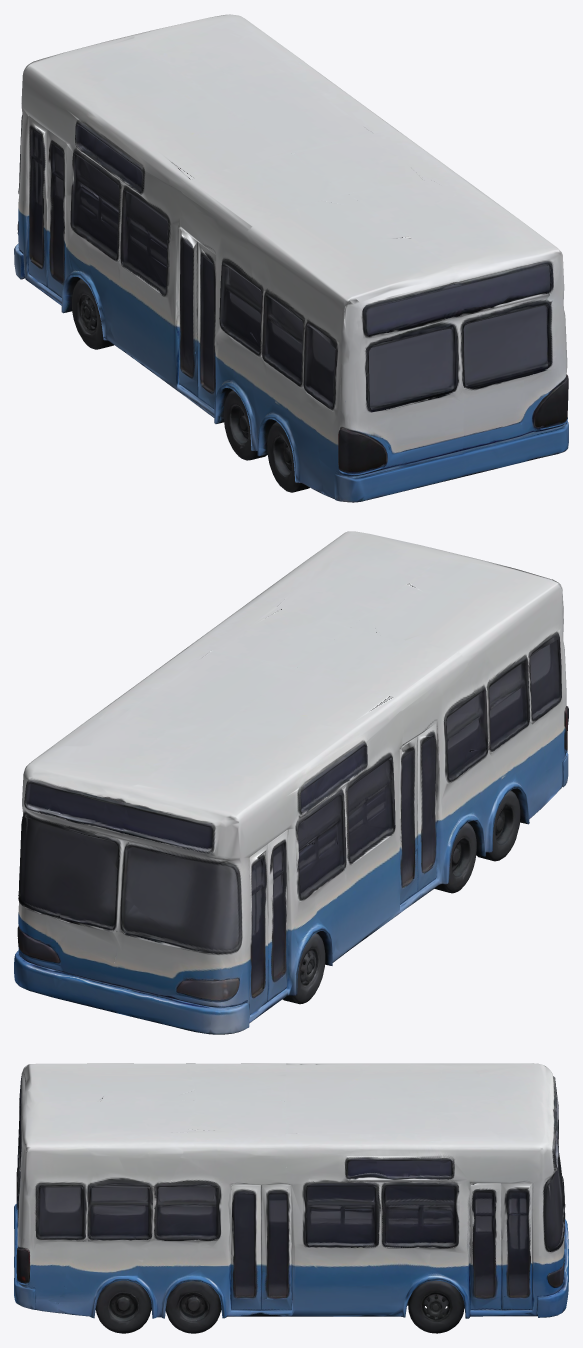
Rendered from bus.glb.
The picture shows the model from 3 angles, top to bottom: view 1: azimuth 30°, elevation 25°; view 2: azimuth 150°, elevation 25°; view 3: azimuth 270°, elevation 25°; orthographic projection. The views are drawn at different scales.
Visible parts, largest first — view 1: tripo_node_788d47bb-34a1-4456-ba1a-29b7fca63ce3; view 2: tripo_node_788d47bb-34a1-4456-ba1a-29b7fca63ce3; view 3: tripo_node_788d47bb-34a1-4456-ba1a-29b7fca63ce3.
Part boxes in pixels (<box>): tripo_node_788d47bb-34a1-4456-ba1a-29b7fca63ce3: <box>14,14,568,502</box>; tripo_node_788d47bb-34a1-4456-ba1a-29b7fca63ce3: <box>14,531,568,1034</box>; tripo_node_788d47bb-34a1-4456-ba1a-29b7fca63ce3: <box>14,1063,568,1333</box>.
Bounding box in the file's own units: 0.3832 × 0.3708 × 0.98.
Materials: 1 (1 with a texture image).
